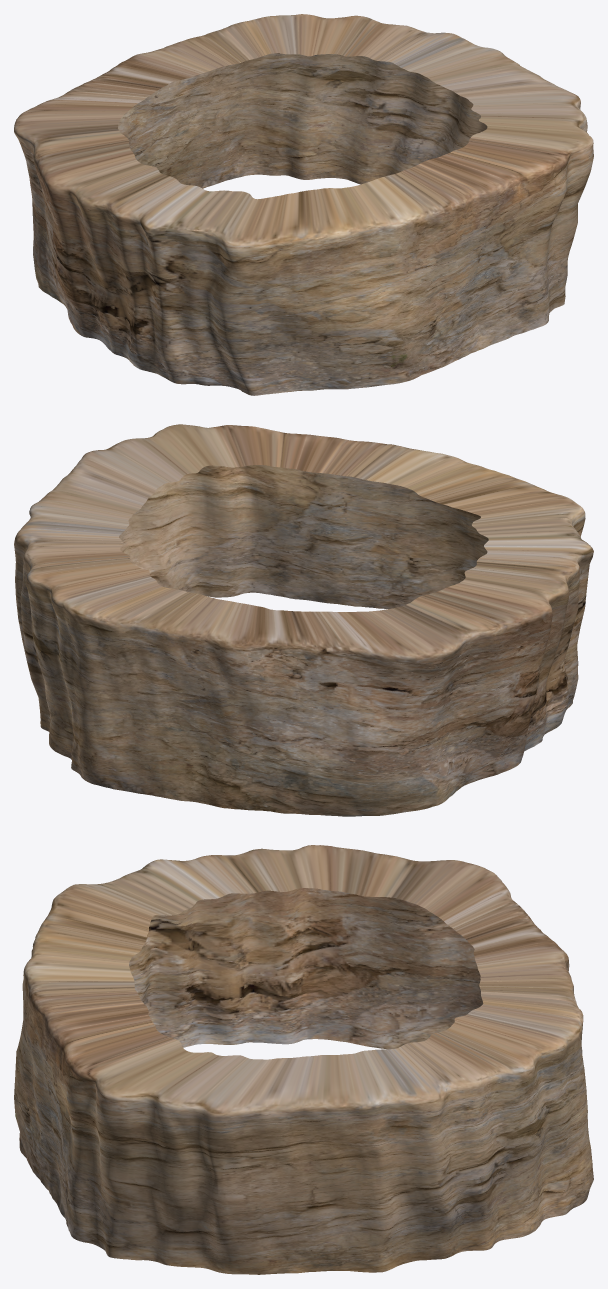
The model's file is plattform3.fbx.
3 views of the same model, one above another, from view 1: azimuth 30°, elevation 25°; view 2: azimuth 150°, elevation 25°; view 3: azimuth 270°, elevation 25° (orthographic). The views are drawn at different scales.
Parts seen in each view (by area): view 1: Object001; view 2: Object001; view 3: Object001.
Boxes of the visible parts, x1=… form: Object001: x1=14, y1=14, x2=593, y2=395; Object001: x1=14, y1=424, x2=593, y2=816; Object001: x1=14, y1=845, x2=593, y2=1274.
Size of what is drawn, in the model's own units: 4254 by 1343 by 3859.
